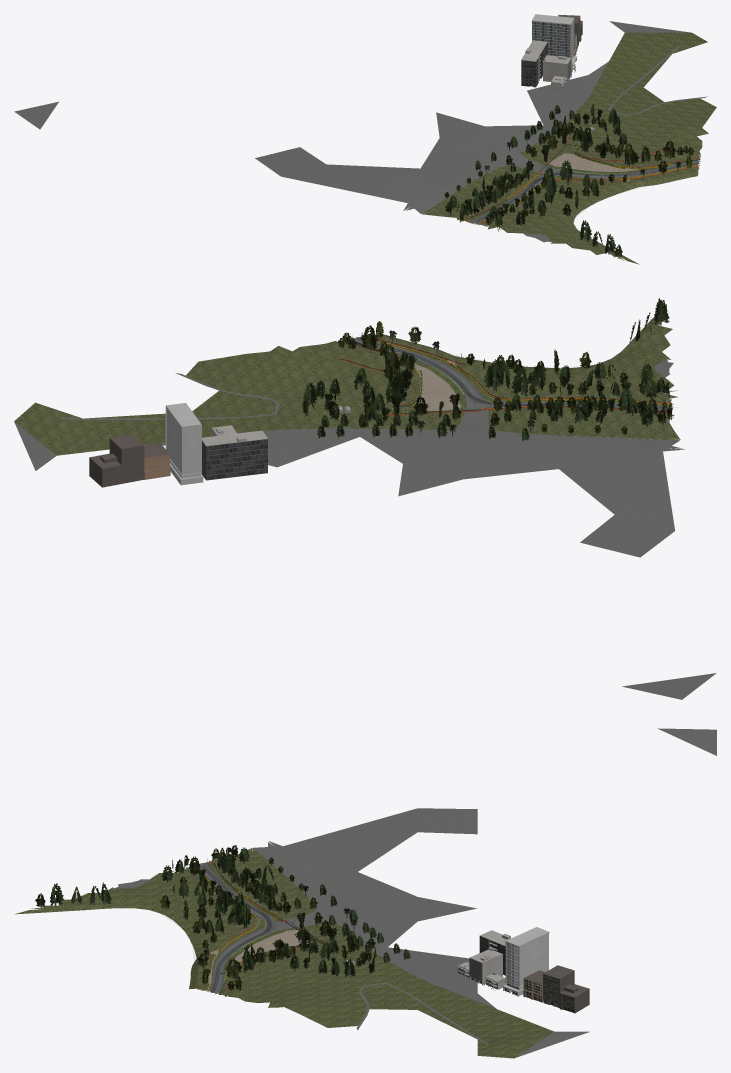
3 views of the same model, one above another, from view 1: azimuth 30°, elevation 25°; view 2: azimuth 150°, elevation 25°; view 3: azimuth 270°, elevation 25° (orthographic). The views are drawn at different scales.
Parts seen in each view (by area): view 1: tile_t03; view 2: tile_t03; view 3: tile_t03.
Part boxes in pixels (<box>): tile_t03: <box>14,14,716,264</box>; tile_t03: <box>14,298,716,699</box>; tile_t03: <box>15,728,716,1058</box>.
Bounding box in the file's own units: 832 × 67.21 × 752.
31 materials, 30 textured.
